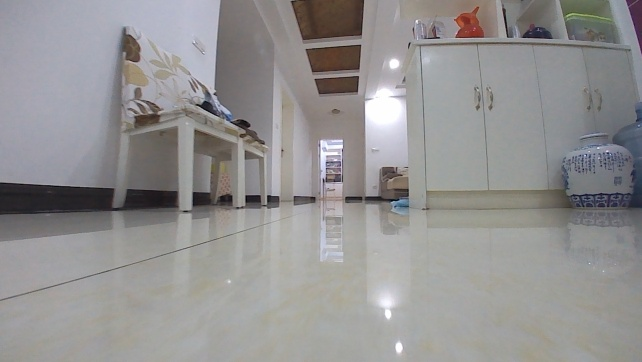sofa1: (378, 166, 410, 200)
